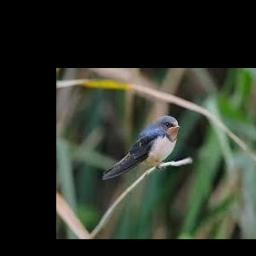Swallow: (100, 116, 179, 180)
